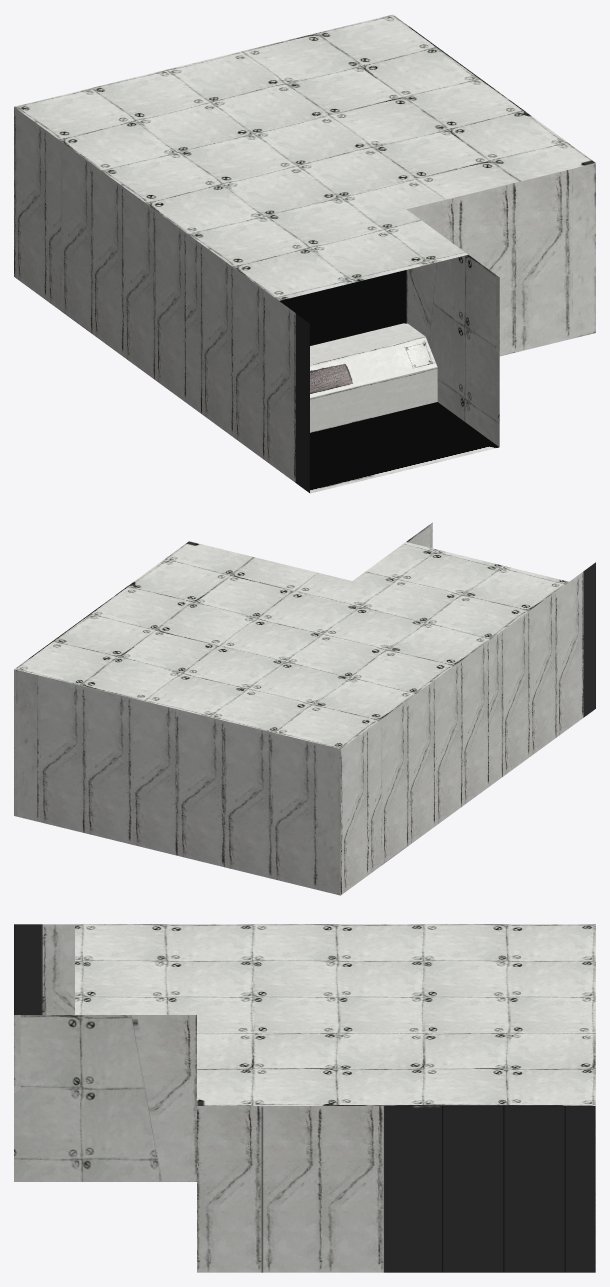
File: HandDrawnTest3.fbx
3 renders of one model, top to bottom at view 1: azimuth 30°, elevation 25°; view 2: azimuth 150°, elevation 25°; view 3: azimuth 270°, elevation 25°, orthographic. The views are drawn at different scales.
Visible parts, largest first — view 1: Plane; view 2: Plane; view 3: Plane.
Part boxes in pixels (<box>): Plane: <box>14,14,595,493</box>; Plane: <box>14,522,595,895</box>; Plane: <box>14,924,595,1272</box>.
Bounding box in the file's own units: 700 × 300 × 948.
Materials: 1 (1 with a texture image).
